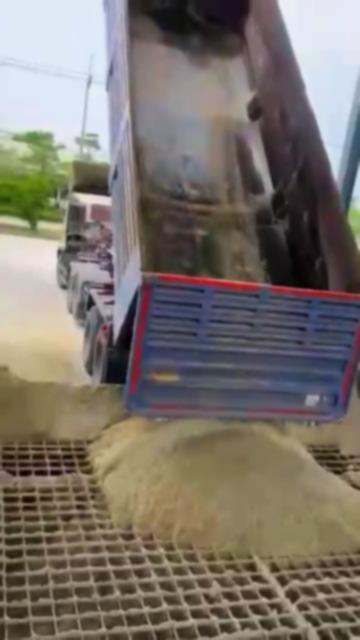sand: (91, 418, 360, 556), (1, 367, 123, 441), (284, 387, 360, 456), (256, 558, 320, 639), (1, 469, 86, 489)
